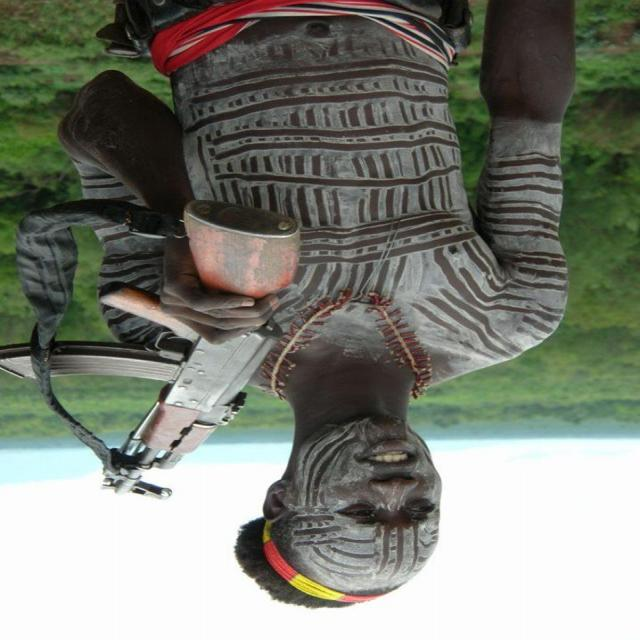weapon: (0, 198, 306, 501)
